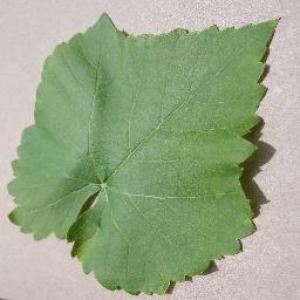Folha: (6, 11, 281, 296)
